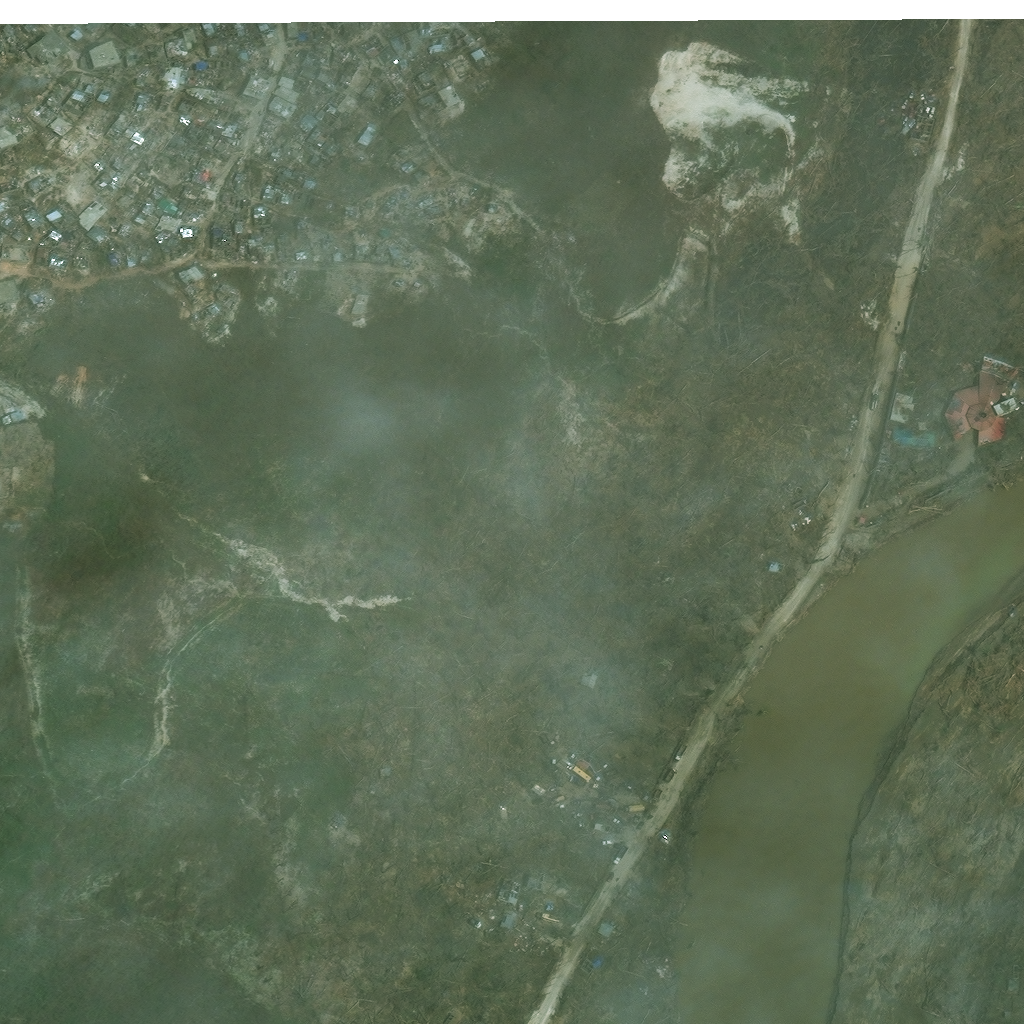destroyed: (100, 99, 130, 129), (193, 229, 220, 260), (471, 882, 500, 910), (326, 61, 352, 90), (372, 91, 398, 116), (362, 251, 384, 275), (306, 194, 333, 213), (153, 139, 177, 160), (78, 178, 101, 199), (357, 199, 377, 223), (390, 241, 410, 262), (300, 95, 321, 115), (0, 70, 25, 86), (7, 297, 26, 317), (243, 64, 263, 83), (145, 251, 163, 271), (253, 123, 271, 143), (236, 239, 251, 262), (290, 224, 305, 246), (156, 102, 174, 120), (369, 228, 387, 246), (288, 166, 307, 183), (149, 76, 162, 100), (410, 165, 428, 182), (393, 145, 411, 161), (523, 211, 541, 227), (285, 58, 301, 76), (129, 51, 143, 71), (474, 205, 493, 219), (286, 34, 301, 51), (5, 141, 20, 158), (338, 208, 352, 226), (70, 28, 90, 40), (271, 164, 287, 179), (174, 124, 189, 140), (208, 215, 225, 229), (402, 197, 417, 212), (417, 195, 432, 209), (370, 52, 384, 67), (231, 42, 245, 57), (332, 27, 351, 38), (210, 27, 225, 40), (244, 143, 257, 158), (59, 260, 71, 276), (266, 245, 277, 262), (381, 198, 394, 212), (176, 140, 190, 153), (64, 171, 77, 185), (315, 232, 324, 251), (287, 141, 300, 154), (90, 141, 103, 154), (217, 48, 229, 62), (256, 151, 270, 163), (432, 202, 445, 214), (351, 240, 363, 252), (221, 253, 234, 264), (253, 229, 267, 239), (452, 189, 467, 198), (186, 79, 198, 90), (98, 167, 109, 179), (251, 247, 265, 256), (333, 252, 342, 264), (228, 188, 239, 197), (286, 27, 298, 35), (249, 117, 258, 127), (384, 257, 392, 265), (0, 108, 6, 117), (351, 27, 357, 35), (549, 919, 556, 925), (0, 44, 5, 52), (154, 28, 166, 31)
major_damage: (940, 352, 1023, 453), (12, 36, 56, 82), (407, 26, 443, 61), (18, 255, 54, 286), (380, 34, 414, 62), (171, 94, 204, 119), (351, 76, 378, 105), (918, 108, 944, 137), (500, 875, 528, 901), (68, 52, 93, 80), (409, 91, 438, 114), (20, 111, 46, 136), (45, 101, 71, 126), (403, 72, 429, 97), (300, 127, 325, 153), (79, 91, 104, 116), (288, 114, 312, 140), (460, 52, 484, 78), (17, 178, 43, 201), (350, 41, 375, 64), (17, 212, 38, 236), (56, 85, 80, 106), (183, 173, 205, 194), (200, 105, 222, 126), (98, 58, 119, 79), (205, 142, 226, 163), (246, 205, 268, 225), (264, 91, 286, 111), (443, 31, 461, 54), (30, 127, 54, 144), (279, 82, 299, 102), (290, 185, 311, 204), (182, 194, 200, 216), (170, 230, 187, 253), (104, 227, 124, 246), (151, 48, 171, 67), (503, 906, 522, 926), (75, 229, 92, 251), (165, 186, 184, 205), (260, 176, 279, 194), (322, 92, 340, 111), (93, 256, 110, 276), (214, 131, 232, 149), (211, 196, 228, 215), (53, 32, 71, 49), (101, 132, 119, 149), (247, 38, 264, 55), (535, 909, 553, 924), (35, 213, 52, 228), (196, 27, 215, 40), (145, 220, 160, 236), (391, 61, 405, 77), (310, 34, 323, 51), (48, 237, 63, 251), (223, 28, 238, 42), (365, 121, 379, 136), (268, 71, 283, 85), (143, 208, 159, 221), (141, 192, 154, 205), (195, 51, 206, 66), (303, 58, 319, 68), (354, 136, 367, 148), (292, 253, 305, 265), (229, 201, 242, 212), (246, 27, 260, 37), (132, 28, 148, 34), (357, 128, 367, 136)
minor_damage: (901, 432, 932, 450), (73, 210, 93, 230), (335, 808, 353, 825), (589, 941, 605, 956), (606, 917, 619, 930)
unclassified: (0, 247, 18, 272), (931, 87, 949, 105), (0, 211, 12, 232), (540, 873, 554, 887), (0, 157, 10, 174), (558, 879, 571, 892), (0, 183, 10, 197), (625, 804, 633, 813), (595, 757, 603, 762), (582, 794, 586, 800)
